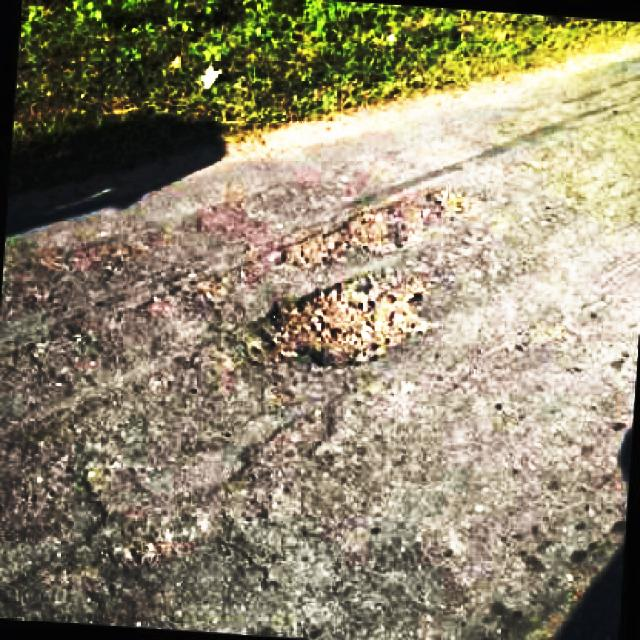pothole: (260, 180, 489, 272), (251, 263, 438, 372)
